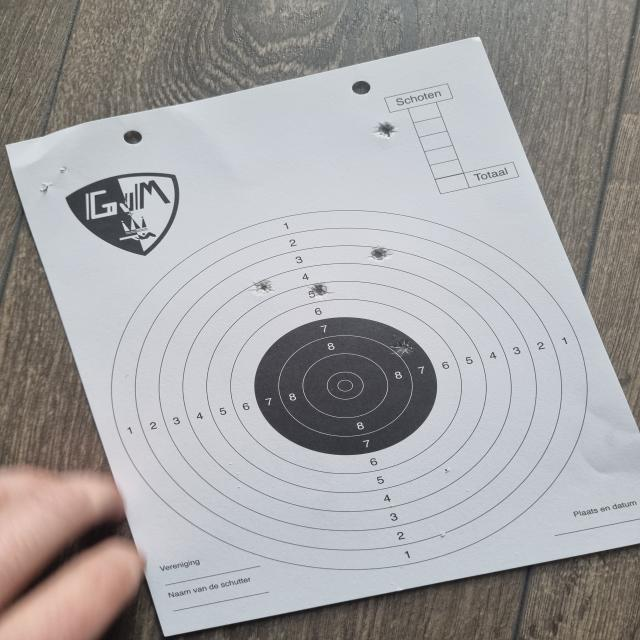0: (375, 123, 398, 137)
3: (366, 248, 394, 261)
4: (248, 280, 274, 294)
5: (308, 283, 334, 296)
8: (390, 340, 415, 357)
Target: (112, 209, 588, 570)
black_contour: (254, 318, 438, 456)
